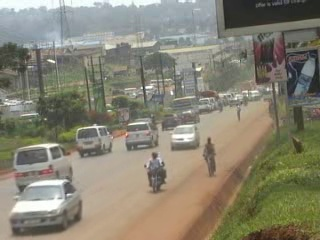Car: (7, 176, 84, 235), (11, 141, 75, 192), (124, 118, 160, 151), (170, 122, 201, 151), (161, 111, 185, 133), (133, 115, 159, 133), (179, 107, 201, 126)
Motorcycle: (141, 149, 169, 194)
